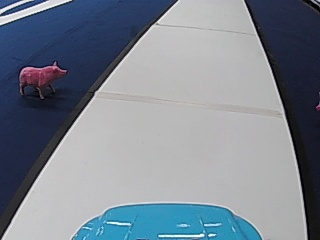pig: (16, 59, 67, 97)
